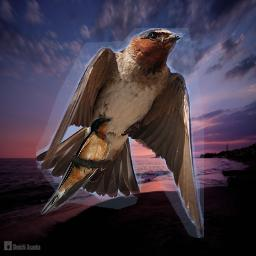Swallow: (36, 28, 204, 238), (38, 115, 115, 215)
